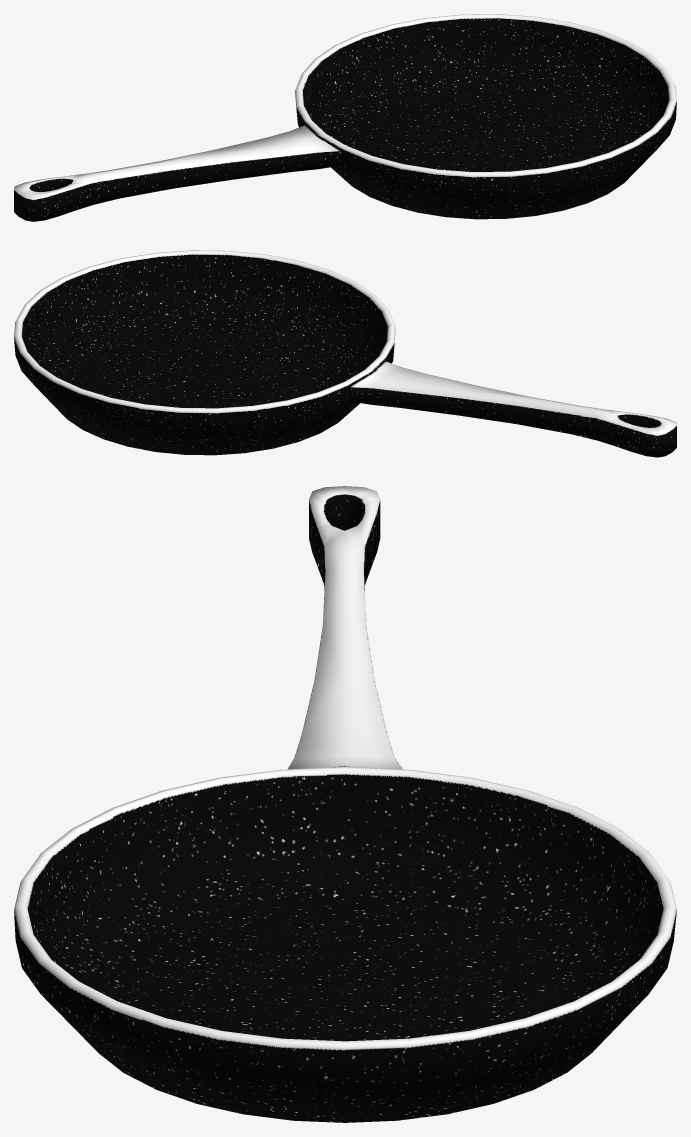
The model's file is stove.glb.
The picture shows the model from 3 angles, top to bottom: view 1: azimuth 30°, elevation 25°; view 2: azimuth 150°, elevation 25°; view 3: azimuth 270°, elevation 25°; orthographic projection. The views are drawn at different scales.
Visible parts, largest first — view 1: stove; view 2: stove; view 3: stove.
Boxes of the visible parts, x1,y1,x2,y2 form: stove: (14, 14, 676, 221); stove: (14, 250, 676, 457); stove: (14, 486, 676, 1122).
Bounding box in the file's own units: 6.77 × 0.8228 × 3.55.
1 material, 1 textured.
